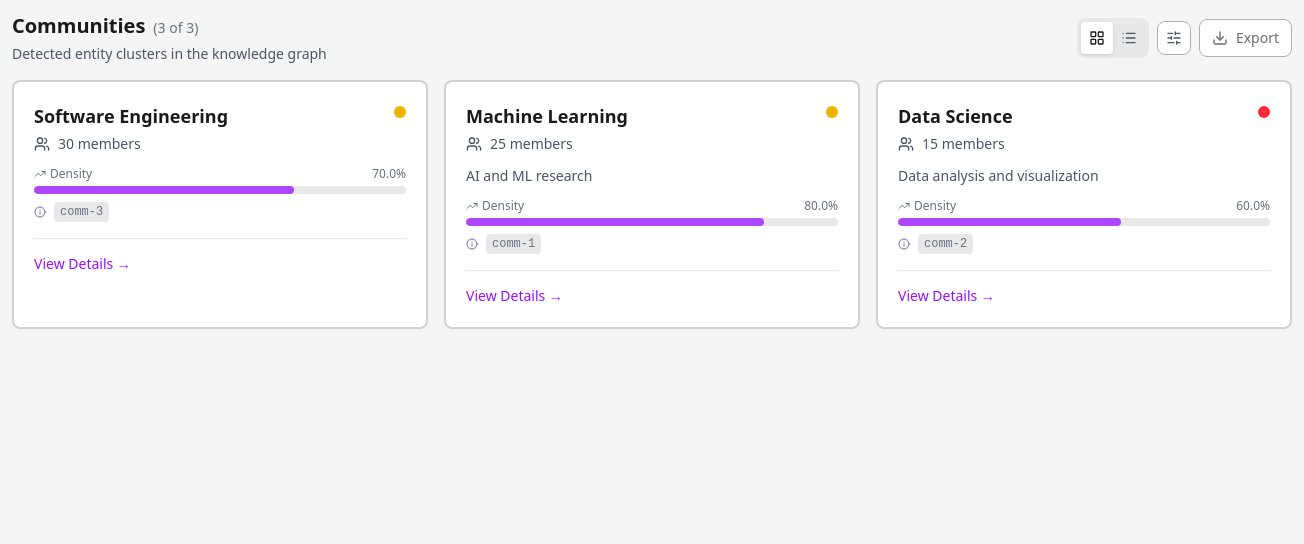
Test: CommunitiesList › Filtering and Sorting › should filter by minimum size
Step 1. Click the button with test id "toggle-filters" → (1174, 38), box [1157,21,1191,55]
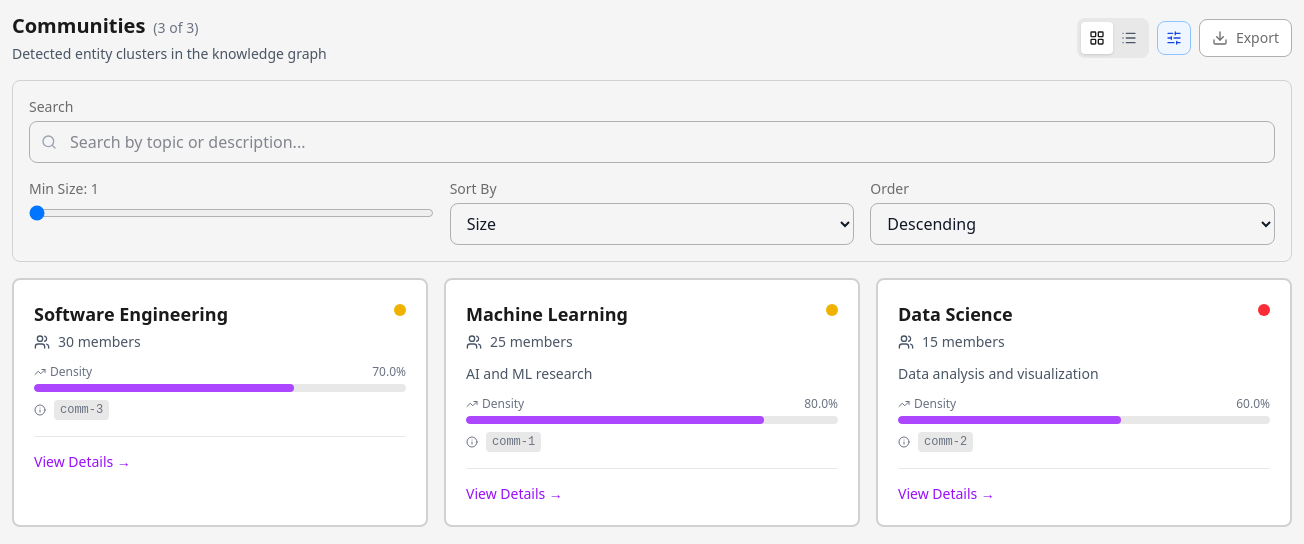
Step 2. Set the slider with test id "min-size-slider" to "20" → (112, 213), box [29,205,434,221]
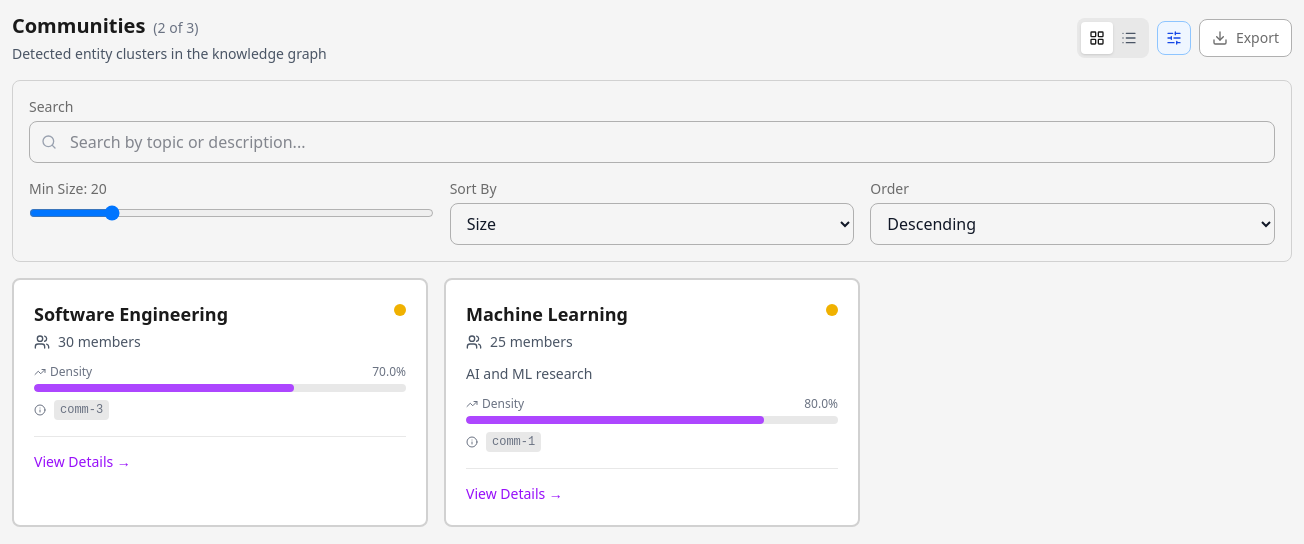
Result: the text "(2 of 3)" is shown at [153,18,198,37]
